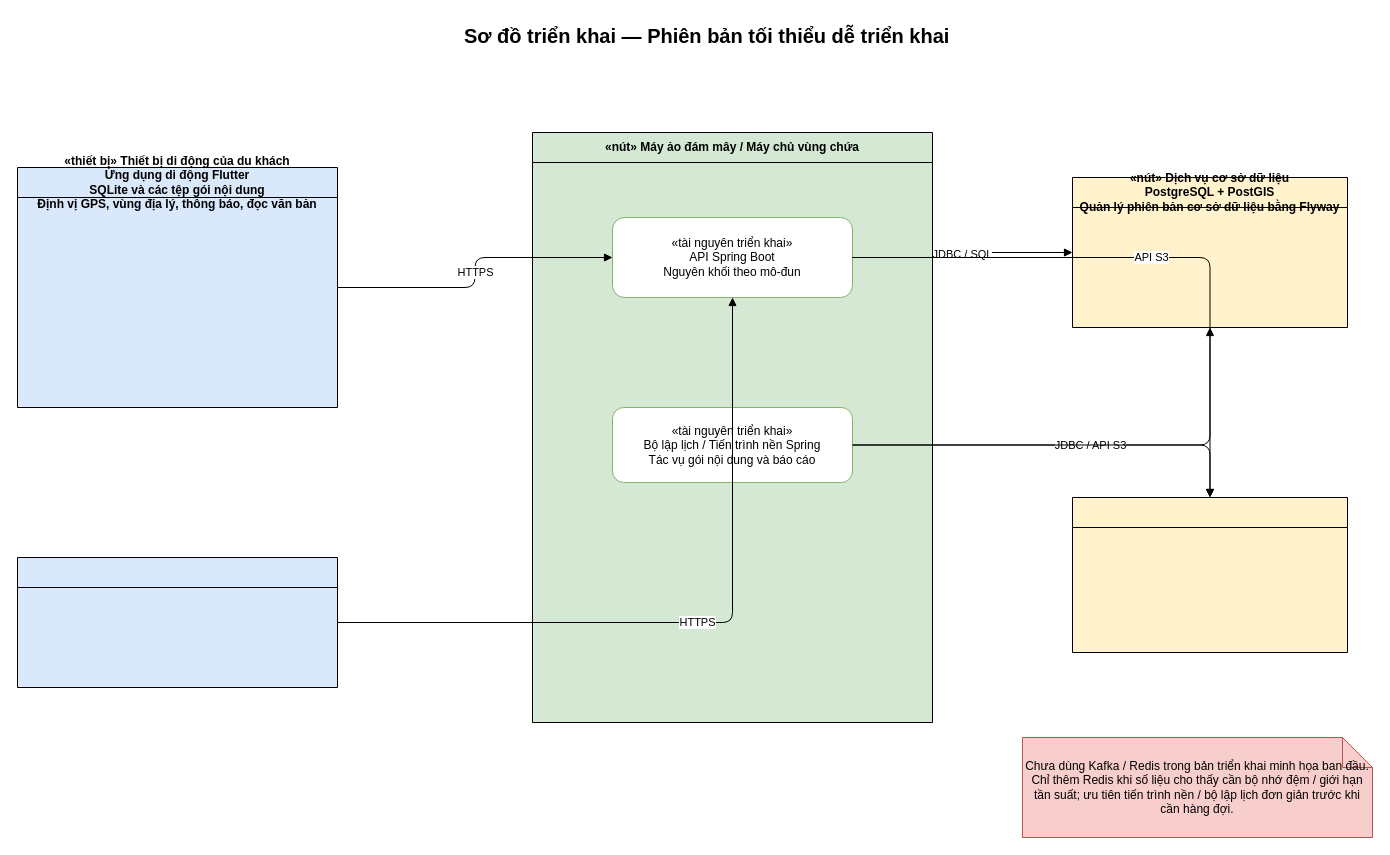
Image size: 1390x855. Some labels were removed from this diagram. The centre of each missing label's shape, as x and y in pixels:
"«nút» Kho lưu trữ đối tượng S3 / MinIO Tệp âm thanh và gói nội dung" belongs at pixel 1210 574.
"«thiết bị» Trình duyệt quản trị Ứng dụng trang đơn React + Vite" belongs at pixel 177 622.
